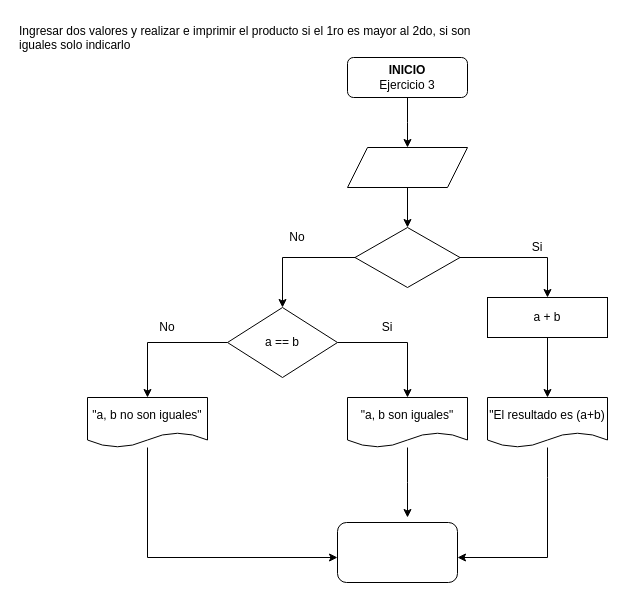
The diagram is 625 pixels wide and 600 high, and some of its shapes have lost their labels. Here are the shapes that lost their labels. From the top down, the centre of each, then its label:
point (407, 167): a, b
point (407, 257): a > b
point (397, 552): FIN
